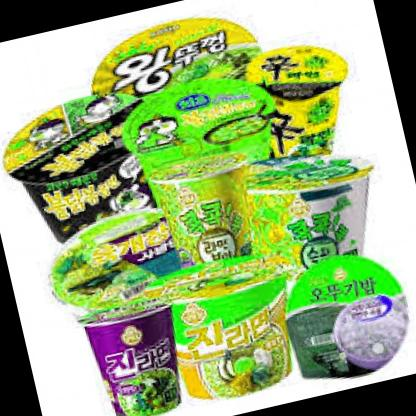Ramen: (0, 82, 178, 267), (152, 239, 312, 404), (111, 64, 295, 206), (82, 1, 280, 130), (238, 136, 394, 288), (35, 208, 208, 330), (244, 34, 370, 184), (152, 148, 272, 297), (81, 295, 198, 416)
